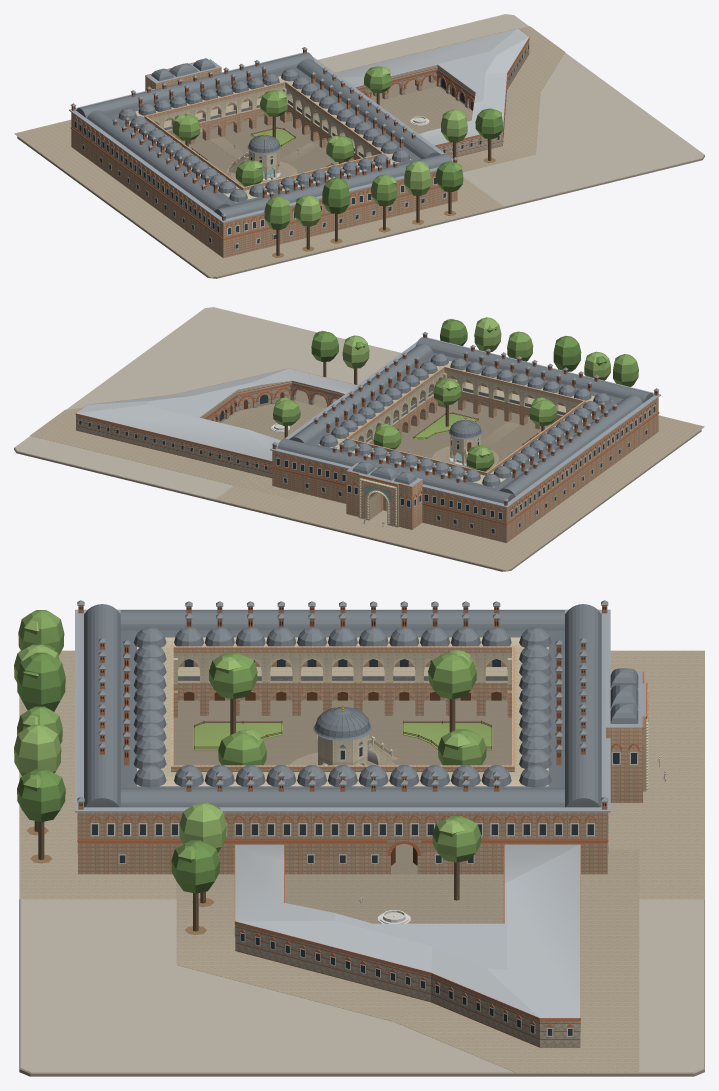
File: koza-han_v11_sunum.glb
3 renders of one model, top to bottom at view 1: azimuth 30°, elevation 25°; view 2: azimuth 150°, elevation 25°; view 3: azimuth 270°, elevation 25°, orthographic. The views are drawn at different scales.
Parts seen in each view (by area): view 1: Zemin_Kaide, Cevre_Doseme, Cati, Govde_Dis, Ic_Koza, Kubbe_Avlu, Avlu_Zemin, Avlu_Revak, Baca, Avlu_Agac, Cephe, Portal (+12 smaller); view 2: Zemin_Kaide, Cevre_Doseme, Ic_Koza, Cati, Govde_Dis, Kubbe_Avlu, Avlu_Zemin, Avlu_Revak, Portal, Baca, Avlu_Agac, Cephe (+12 smaller); view 3: Zemin_Kaide, Cevre_Doseme, Cati, Ic_Koza, Govde_Dis, Avlu_Zemin, Kubbe_Avlu, Avlu_Revak, Avlu_Agac, Baca, Cephe, Portal (+12 smaller).
Part boxes in pixels (bbox=[...]): Zemin_Kaide: bbox=[17, 14, 704, 278]; Cevre_Doseme: bbox=[14, 26, 565, 277]; Cati: bbox=[69, 52, 458, 222]; Govde_Dis: bbox=[71, 67, 457, 258]; Ic_Koza: bbox=[335, 28, 529, 158]; Kubbe_Avlu: bbox=[118, 68, 410, 201]; Avlu_Zemin: bbox=[179, 73, 472, 187]; Avlu_Revak: bbox=[118, 76, 410, 202]; Baca: bbox=[71, 47, 458, 220]; Avlu_Agac: bbox=[172, 66, 391, 186]; Cephe: bbox=[74, 86, 446, 249]; Portal: bbox=[145, 58, 221, 90]; Zemin_Kaide: bbox=[14, 307, 701, 571]; Cevre_Doseme: bbox=[30, 407, 704, 570]; Ic_Koza: bbox=[75, 368, 357, 478]; Cati: bbox=[270, 337, 660, 507]; Govde_Dis: bbox=[272, 352, 658, 542]; Kubbe_Avlu: bbox=[319, 353, 611, 486]; Avlu_Zemin: bbox=[220, 390, 550, 471]; Avlu_Revak: bbox=[319, 361, 612, 487]; Portal: bbox=[346, 461, 422, 529]; Baca: bbox=[272, 332, 658, 505]; Avlu_Agac: bbox=[273, 378, 557, 471]; Cephe: bbox=[275, 401, 655, 534]; Zemin_Kaide: bbox=[19, 899, 704, 1076]; Cevre_Doseme: bbox=[19, 650, 704, 1072]; Cati: bbox=[75, 604, 610, 812]; Ic_Koza: bbox=[234, 844, 580, 1047]; Govde_Dis: bbox=[78, 630, 607, 874]; Avlu_Zemin: bbox=[173, 700, 511, 923]; Kubbe_Avlu: bbox=[133, 627, 551, 787]; Avlu_Revak: bbox=[137, 637, 548, 786]; Avlu_Agac: bbox=[209, 649, 486, 900]; Baca: bbox=[77, 600, 608, 809]; Cephe: bbox=[77, 735, 643, 863]; Portal: bbox=[606, 668, 648, 802].
Size of the model in its own units: 136 by 16.92 by 93.97.
Materials: 42 (16 with a texture image).
